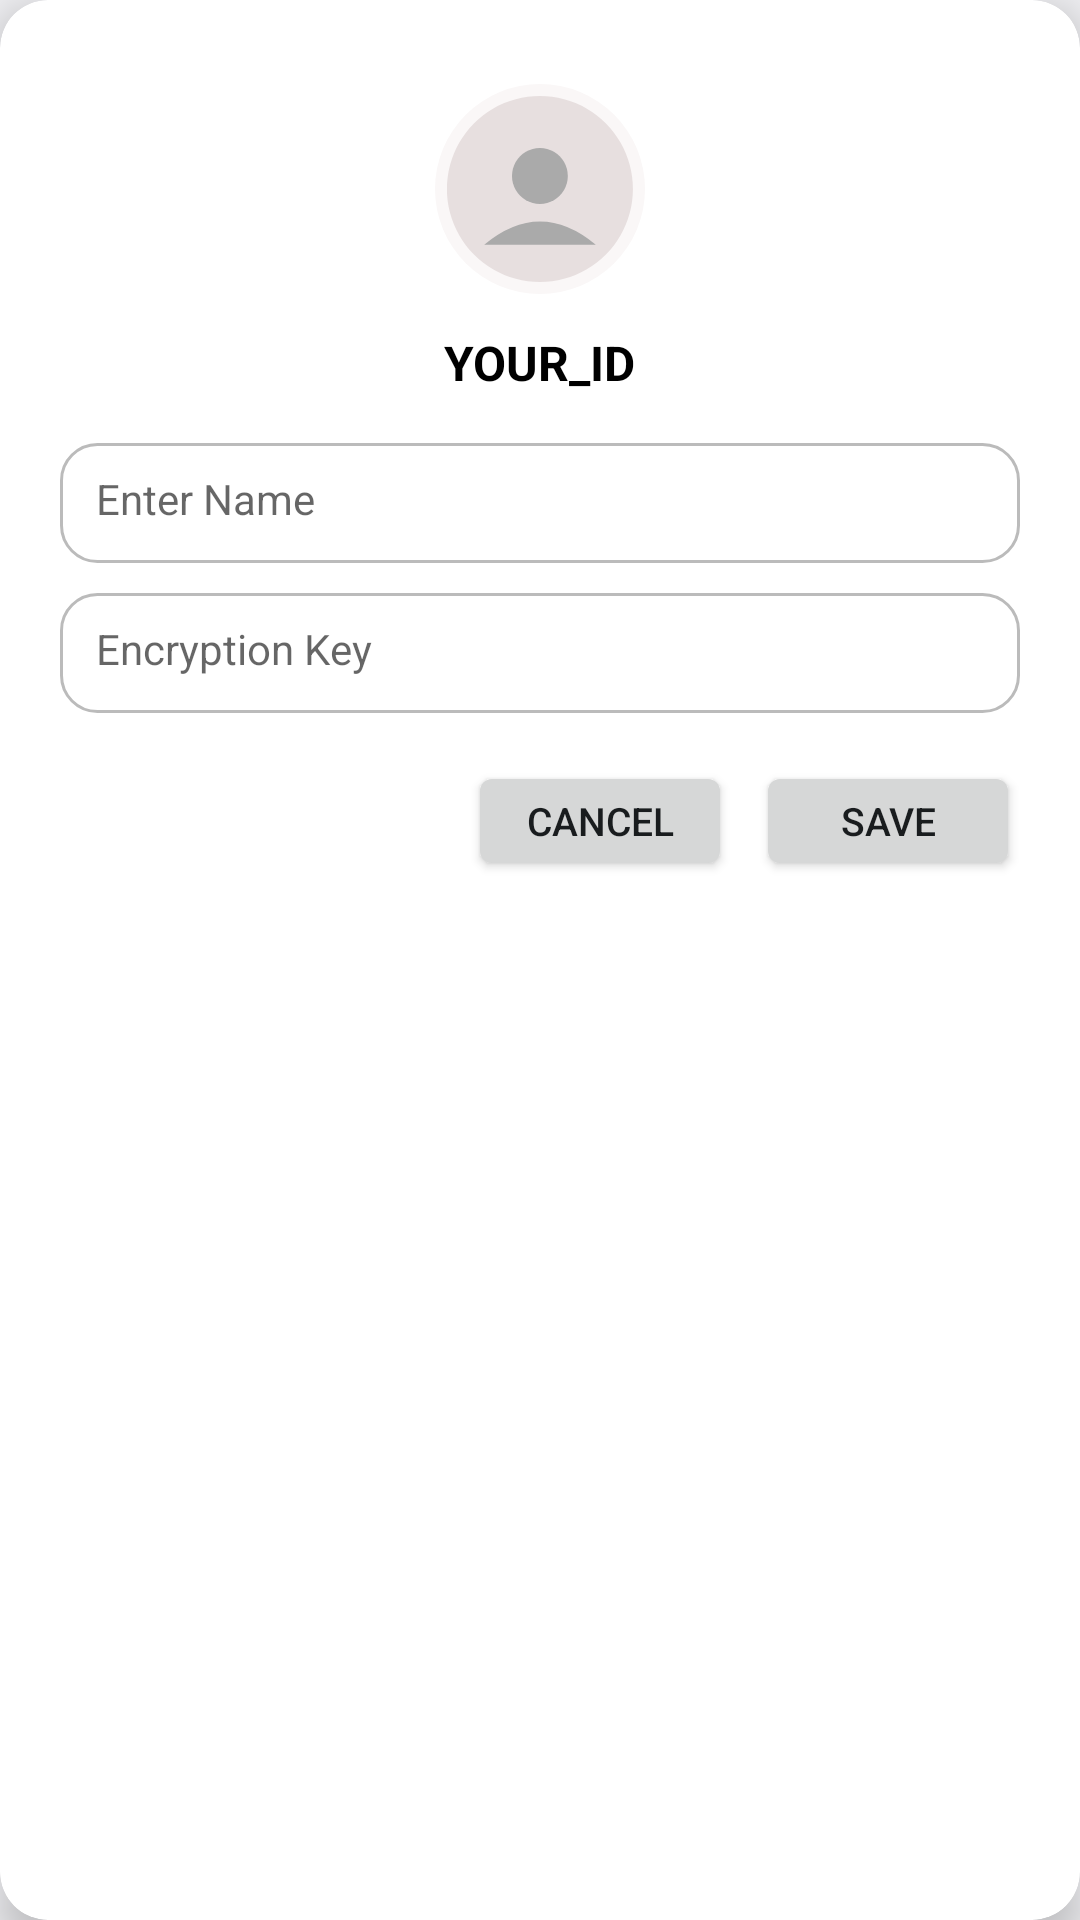

Named icons in this screenshot (1080*1920) and their centers, [x,y]:
Profile Picture: [540,189]
